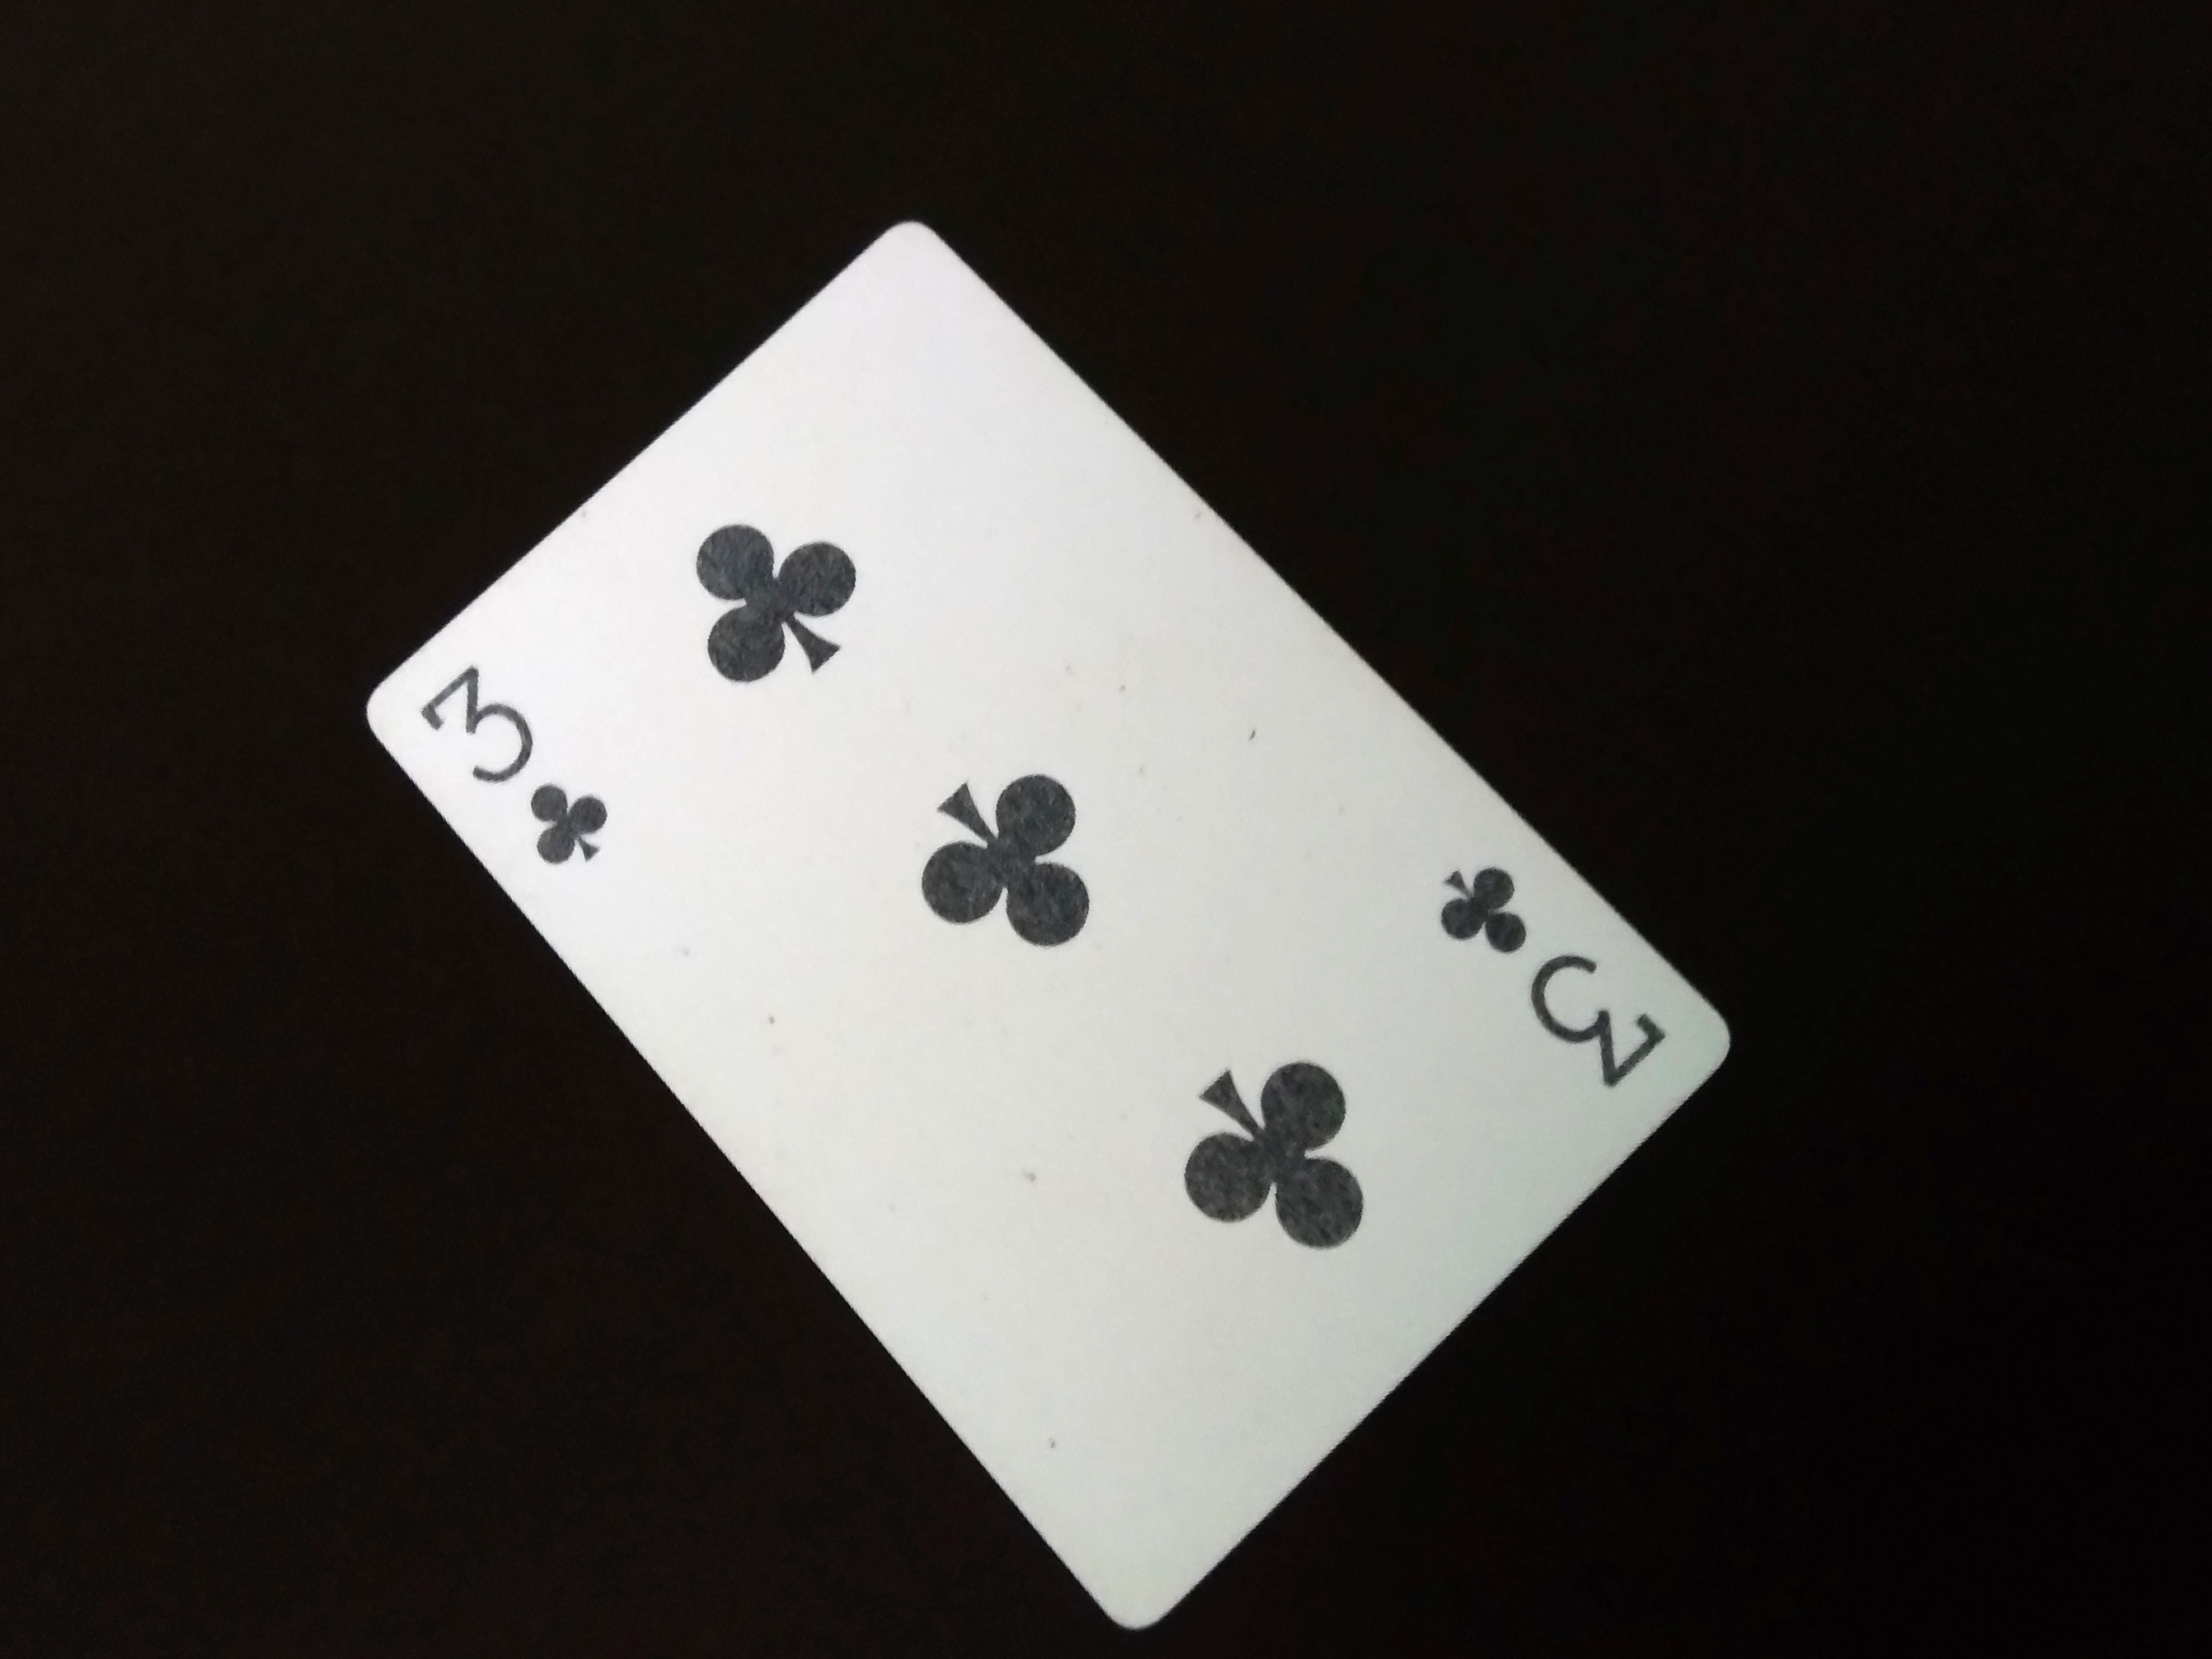3C: (399, 669, 655, 925)
